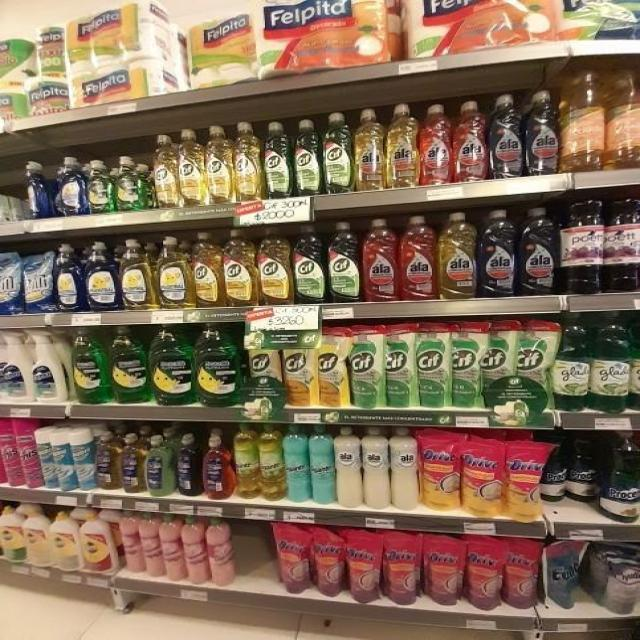ala_conc_amarillo: (438, 211, 476, 300), (386, 102, 418, 189), (354, 108, 385, 191)
ala_conc_azul: (518, 207, 558, 296), (478, 209, 517, 298), (525, 89, 559, 176), (490, 92, 524, 179)
ala_conc_rojo: (399, 215, 436, 301), (362, 218, 398, 302), (453, 100, 488, 182), (420, 103, 452, 185)
ala_crem_amarillo: (363, 427, 390, 509), (336, 427, 361, 508)
ala_crem_blanco: (391, 427, 419, 511)
cif_conc_bot_amarilla: (258, 224, 292, 306), (224, 229, 256, 307), (234, 121, 262, 202), (193, 231, 222, 308), (206, 124, 233, 204), (178, 128, 205, 207), (152, 132, 178, 209)
cif_conc_botella_verde: (328, 221, 360, 303), (294, 223, 326, 304), (322, 111, 352, 195), (264, 120, 292, 200), (292, 118, 320, 196)
cif_conc_sachet_amarillo: (316, 325, 348, 408), (284, 325, 314, 408)
cif_conc_sachet_verde: (514, 318, 551, 413), (483, 319, 515, 411), (350, 324, 383, 409), (418, 322, 450, 408), (385, 323, 415, 408), (452, 321, 481, 408)
drive: (462, 437, 504, 517), (421, 429, 459, 512), (423, 535, 463, 607), (383, 532, 421, 606), (466, 538, 504, 611), (346, 530, 380, 603), (506, 539, 538, 610), (313, 527, 343, 598)
gigante: (310, 424, 334, 504), (260, 422, 284, 501), (286, 424, 310, 502)
magistral_con_amarillo: (156, 236, 191, 309), (120, 238, 154, 311), (121, 432, 143, 494)
magistral_con_azul: (85, 241, 118, 312), (56, 243, 84, 313)
magistral_con_verde: (151, 324, 194, 406), (111, 325, 149, 404), (71, 326, 108, 404)
zorro: (144, 434, 174, 496)
